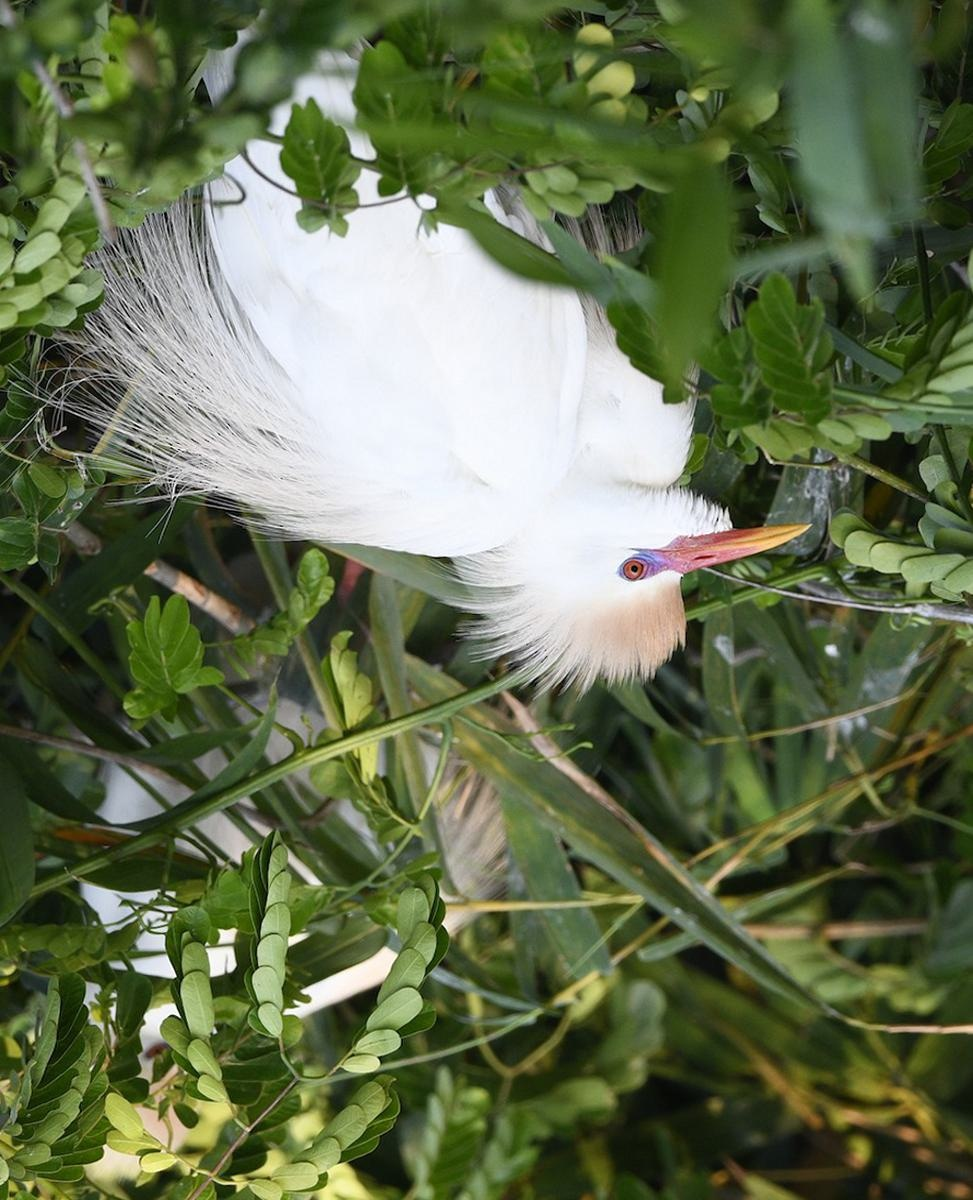egret: (71, 116, 813, 682)
